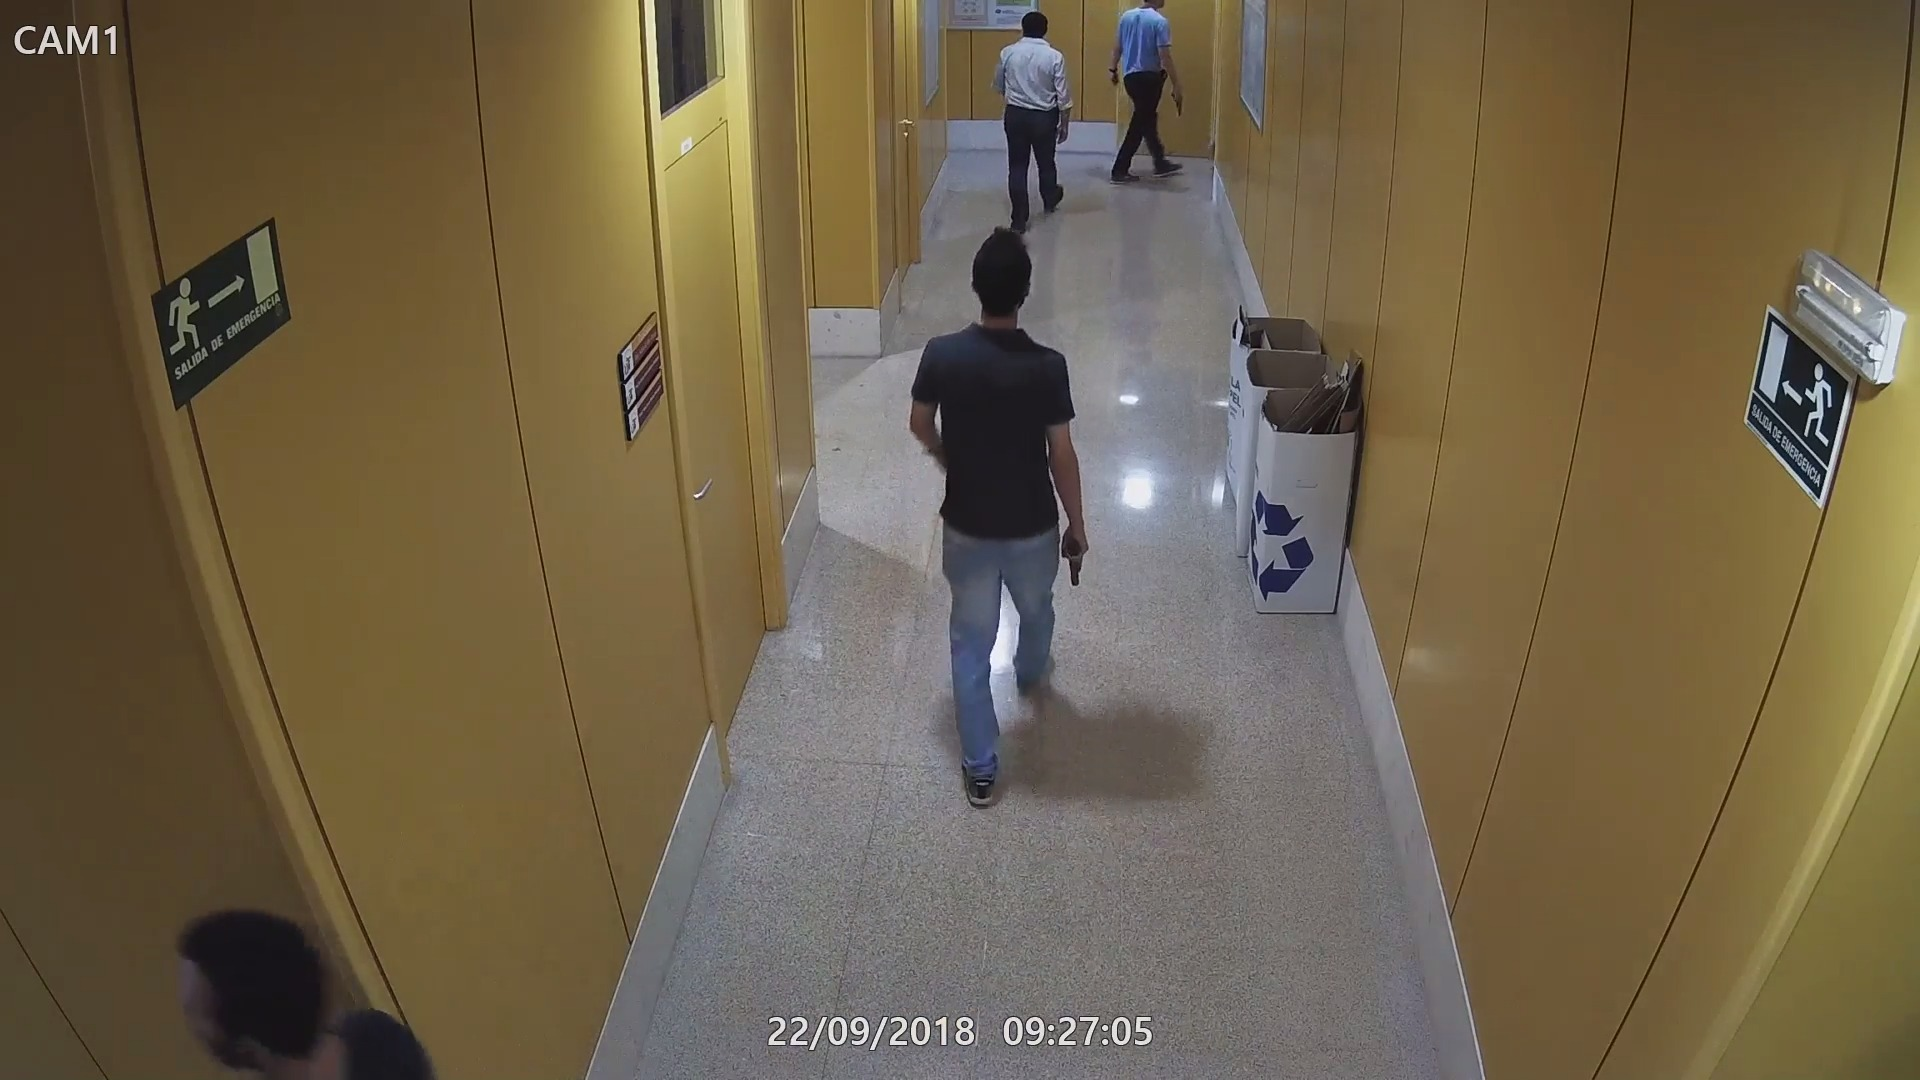Handgun: (1059, 524, 1089, 589), (1164, 87, 1191, 117)
Knife: (1106, 71, 1121, 95)
